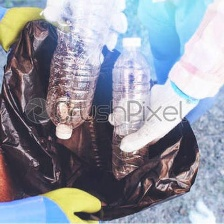bottle: (43, 0, 114, 142), (105, 34, 154, 183)
